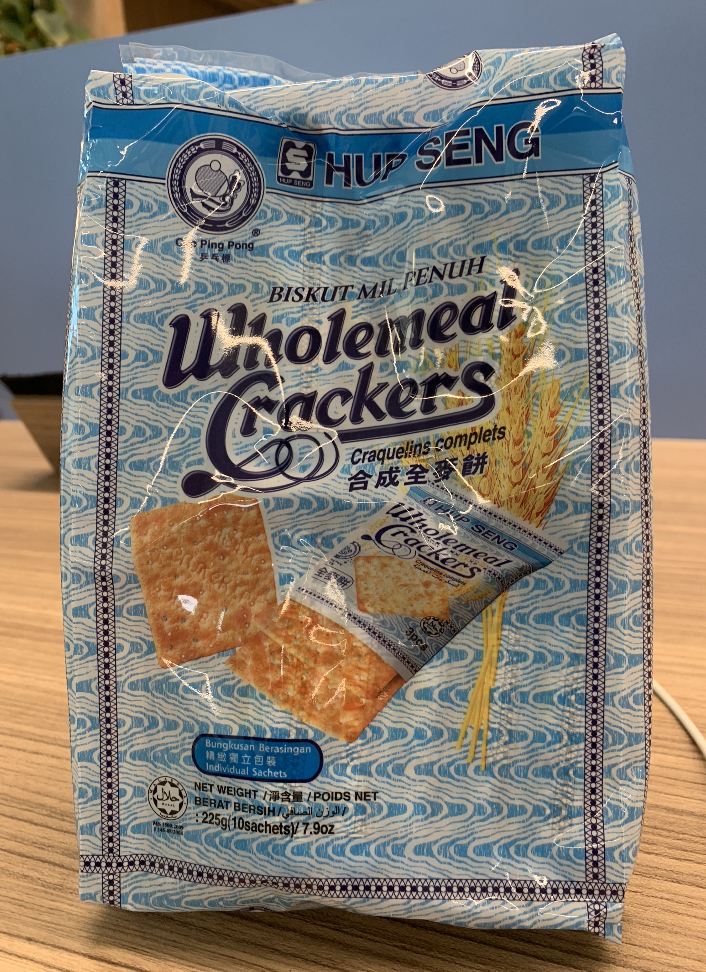crackers_200g-299g: (132, 136, 613, 889)
